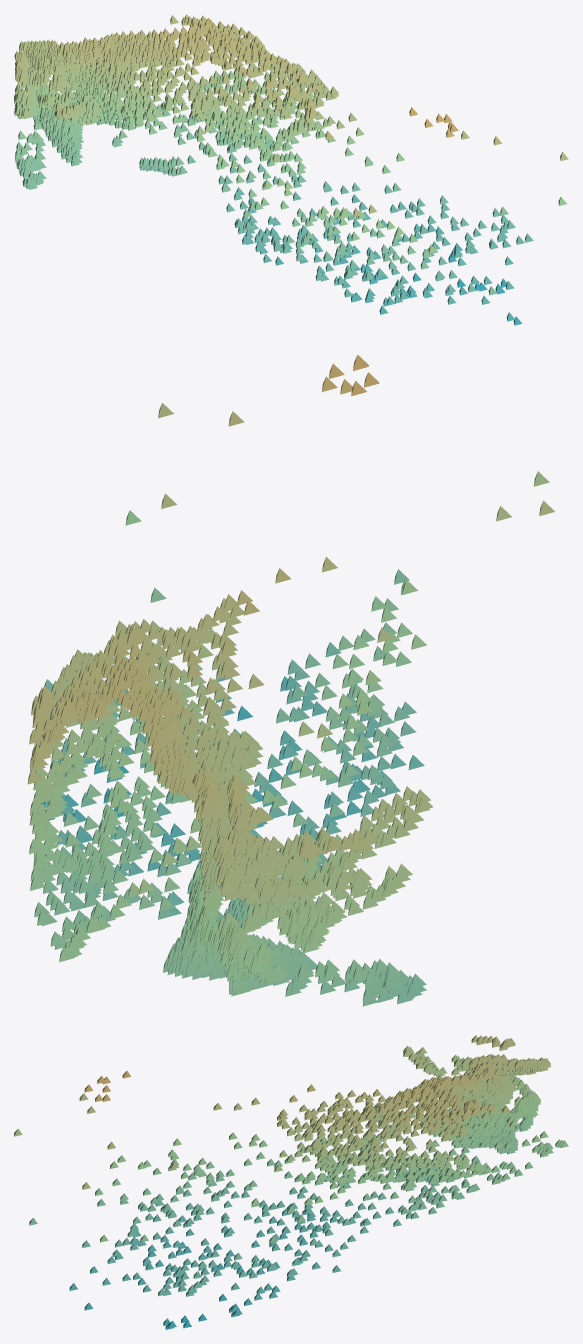
Rendered from scan-preview.glb.
The picture shows the model from 3 angles, top to bottom: view 1: azimuth 30°, elevation 25°; view 2: azimuth 150°, elevation 25°; view 3: azimuth 270°, elevation 25°; orthographic projection. The views are drawn at different scales.
Parts seen in each view (by area): view 1: geometry_0; view 2: geometry_0; view 3: geometry_0.
Boxes of the visible parts, x1,y1,x2,y2 form: geometry_0: (14, 14, 568, 325); geometry_0: (27, 354, 554, 1006); geometry_0: (14, 1035, 568, 1329).
Bounding box in the file's own units: 2.88 × 1.8 × 4.3.
